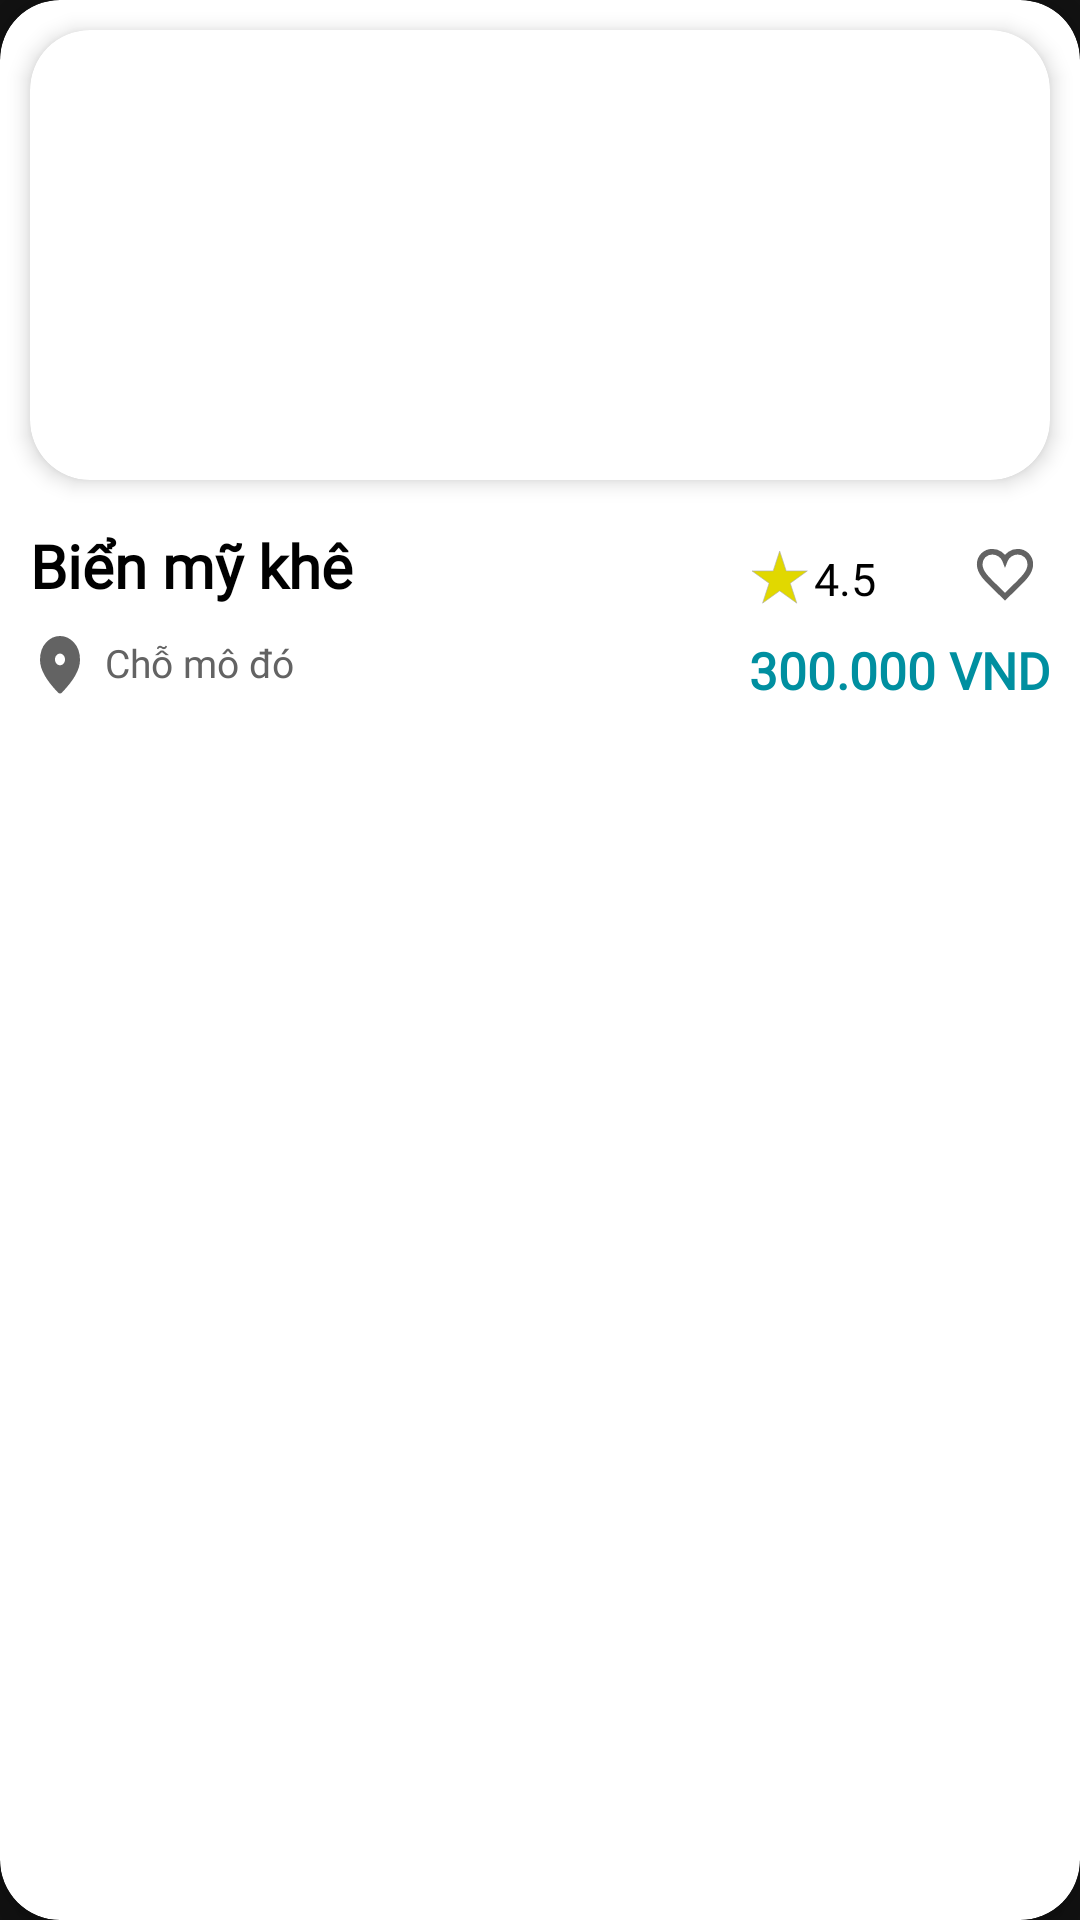

Point at icon controls on the screen. Image size 1080 × 1920, points as (x=x, y=y).
location: (x=60, y=665)
star: (x=779, y=577)
